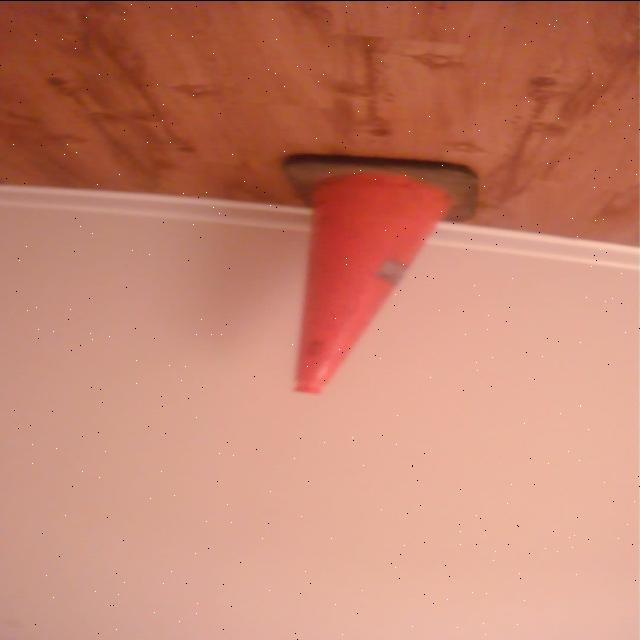traffic cone: (279, 152, 487, 398)
